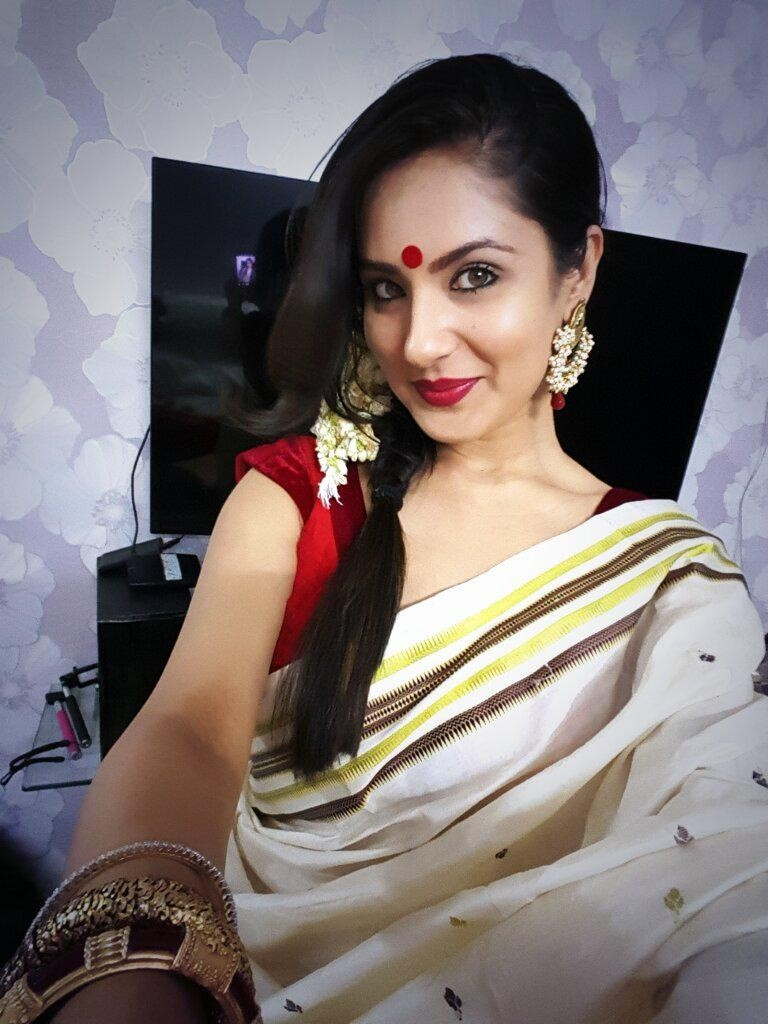face_no_mask: (339, 63, 592, 437)
